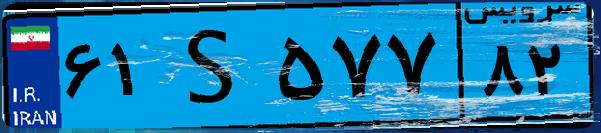1: (110, 28, 158, 98)
2: (525, 38, 570, 115)
5: (270, 28, 330, 110)
6: (57, 26, 110, 100)
7: (385, 28, 445, 110), (330, 28, 385, 110)
8: (475, 38, 525, 113)
S: (158, 12, 270, 120)
